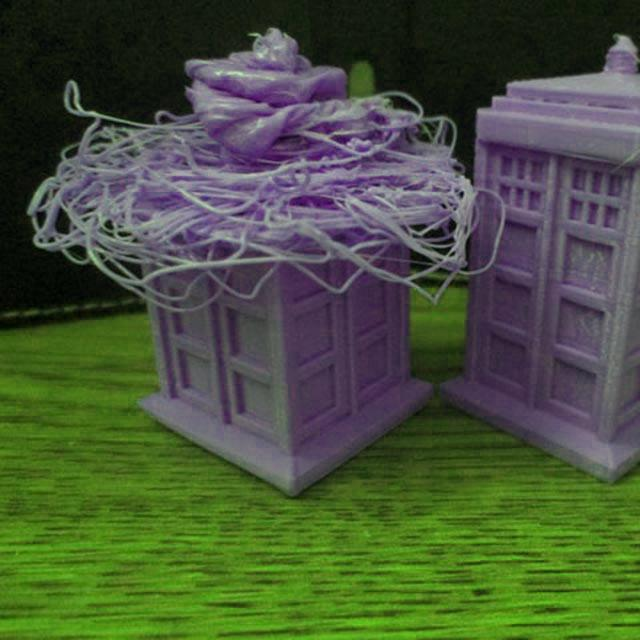spaghetti: (24, 22, 515, 323)
